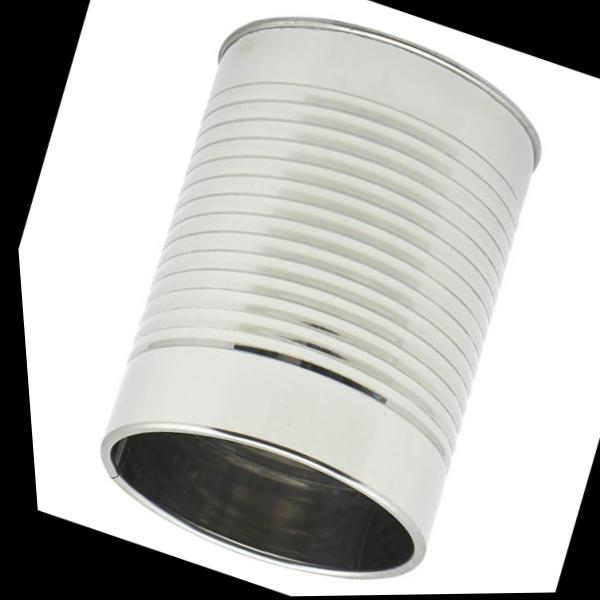metal: (26, 0, 600, 600)
